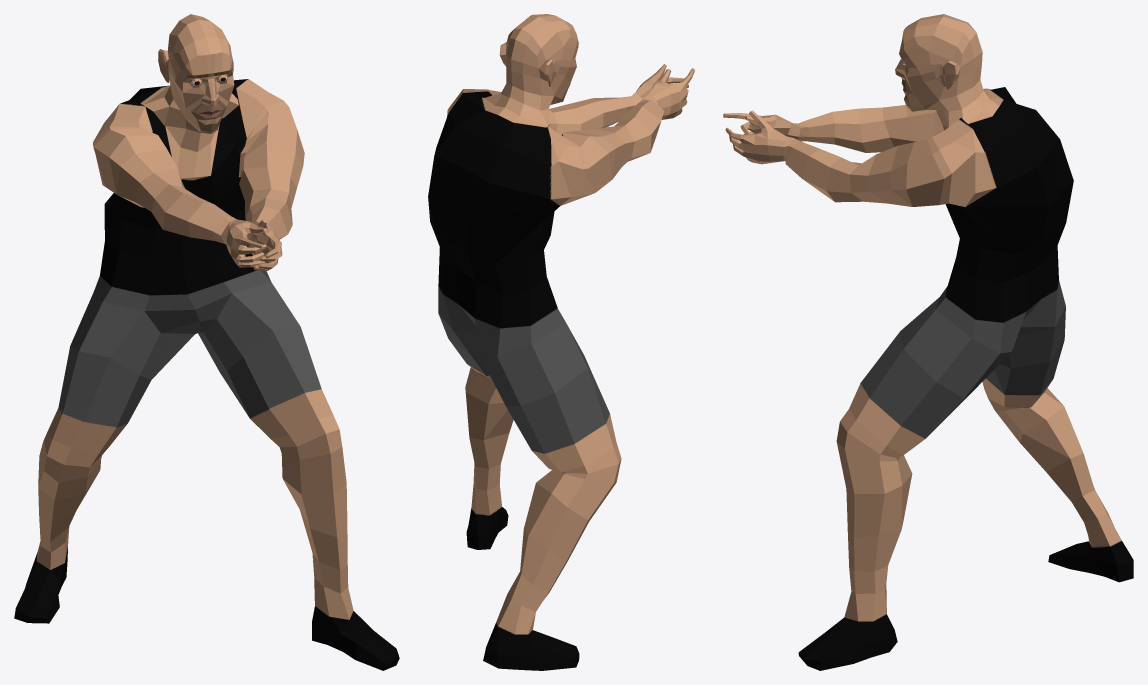
File: PlayerShoot(28).obj
The picture shows the model from 3 angles, left to right: view 1: azimuth 30°, elevation 25°; view 2: azimuth 150°, elevation 25°; view 3: azimuth 270°, elevation 25°; orthographic projection. The views are drawn at different scales.
Visible parts, largest first — view 1: Plane002; view 2: Plane002; view 3: Plane002.
Part boxes in pixels (x1=…): Plane002: x1=14, y1=14, x2=399, y2=670; Plane002: x1=428, y1=14, x2=694, y2=670; Plane002: x1=723, y1=14, x2=1133, y2=670.
Size of the model in its own units: 713 by 1665 by 1048.
